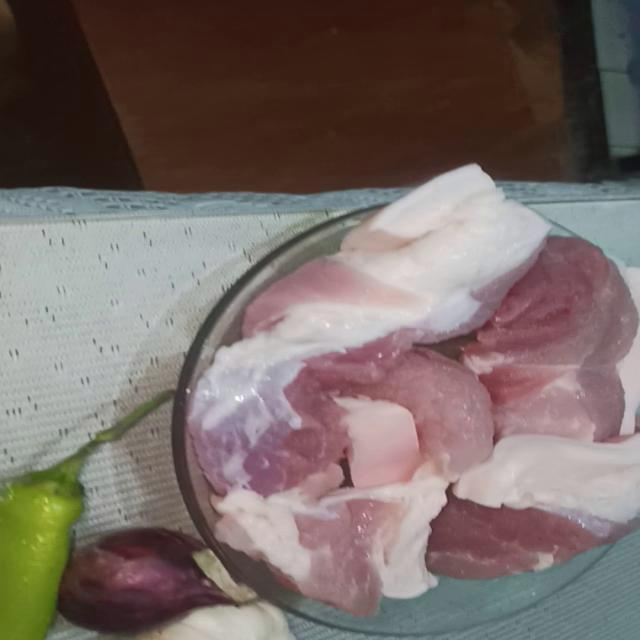chili_pepper: (0, 390, 130, 640)
onion: (51, 512, 288, 637)
pork: (314, 172, 551, 313), (202, 282, 460, 393), (131, 389, 380, 504), (501, 210, 625, 432), (433, 450, 634, 585), (240, 502, 462, 615), (335, 355, 507, 485)
